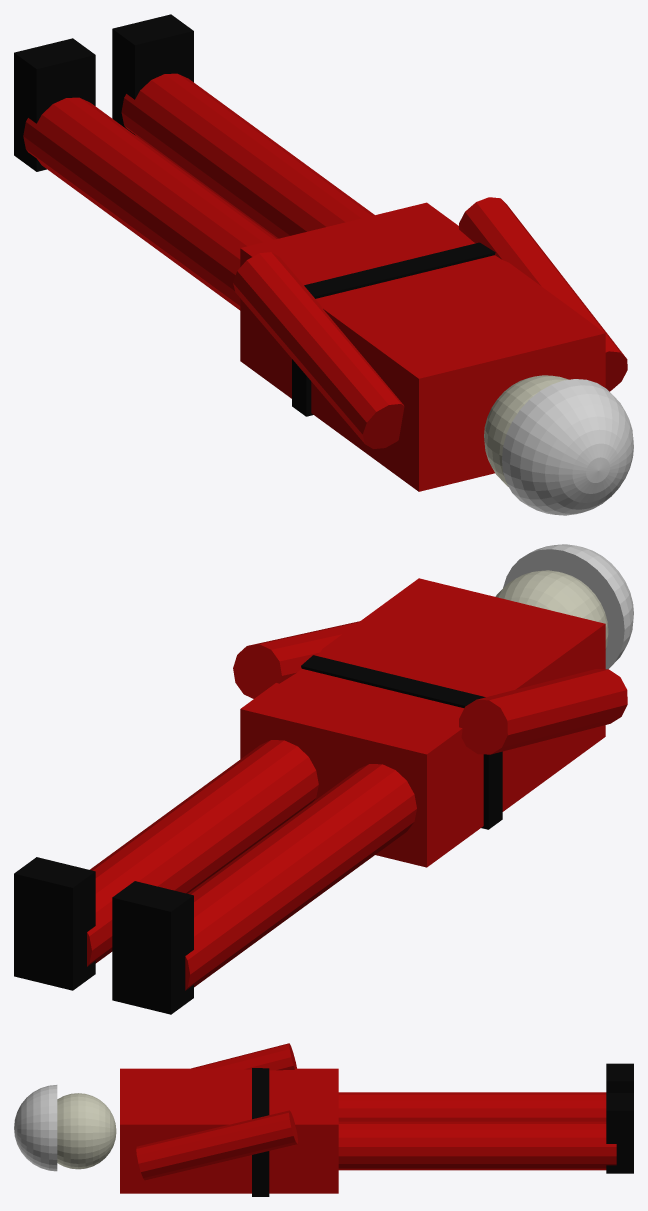
Rendered from technician.obj.
3 views of the same model, one above another, from view 1: azimuth 30°, elevation 25°; view 2: azimuth 150°, elevation 25°; view 3: azimuth 270°, elevation 25° (orthographic). The views are drawn at different scales.
Visible parts, largest first — view 1: technician; view 2: technician; view 3: technician.
Part boxes in pixels (box(x1,y1,x2,y2)): technician: box(14, 14, 633, 515); technician: box(14, 544, 633, 1014); technician: box(14, 1043, 633, 1196).
Bounding box in the file's own units: 0.5597 × 0.2831 × 1.78.
